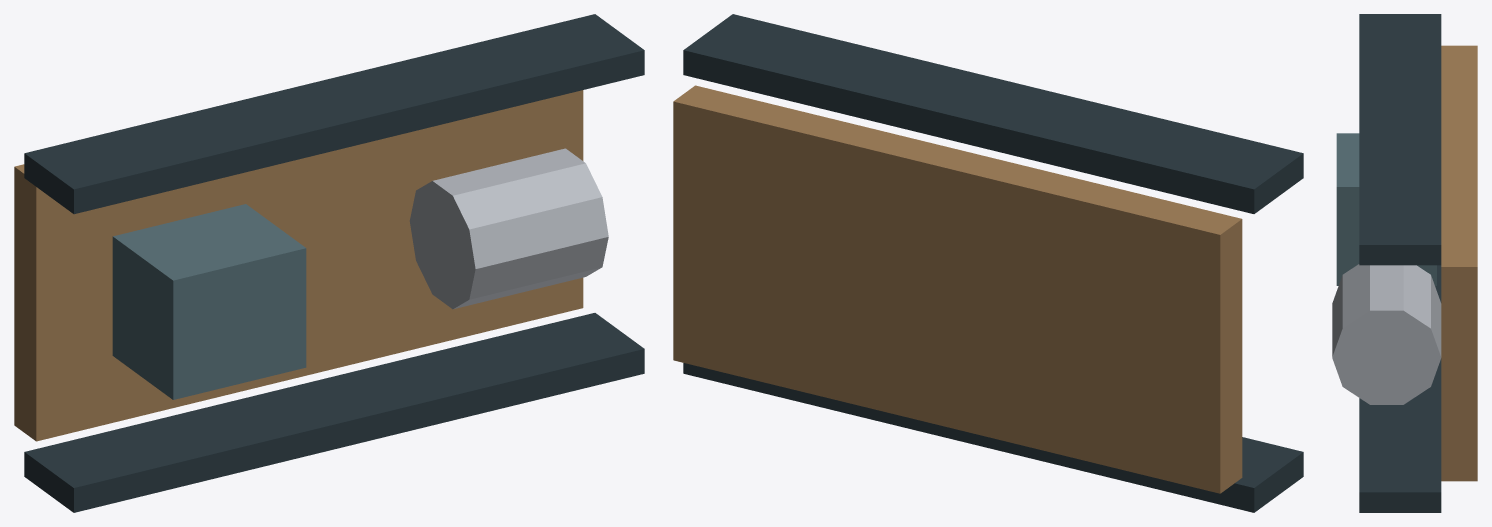
Rendered from 08_skyship_deck.glb.
The picture shows the model from 3 angles, left to right: view 1: azimuth 30°, elevation 25°; view 2: azimuth 150°, elevation 25°; view 3: azimuth 270°, elevation 25°; orthographic projection. The views are drawn at different scales.
Visible parts, largest first — view 1: deck_insert, rail_right, rail_left, cargo_crate, winch; view 2: deck_insert, rail_right, rail_left; view 3: rail_right, deck_insert, winch, rail_left, cargo_crate.
Boxes of the visible parts, bbox=[...] form: deck_insert: bbox=[14, 90, 583, 441]; rail_right: bbox=[24, 14, 644, 214]; rail_left: bbox=[24, 313, 644, 512]; cargo_crate: bbox=[112, 204, 306, 399]; winch: bbox=[409, 148, 608, 309]; deck_insert: bbox=[673, 85, 1242, 493]; rail_right: bbox=[683, 14, 1303, 213]; rail_left: bbox=[683, 363, 1303, 512]; rail_right: bbox=[1359, 14, 1441, 265]; deck_insert: bbox=[1441, 45, 1477, 481]; winch: bbox=[1332, 264, 1441, 404]; rail_left: bbox=[1359, 265, 1441, 512]; cargo_crate: bbox=[1336, 133, 1436, 285].
Bounding box in the file's own units: 2.46 × 1.33 × 0.656.
